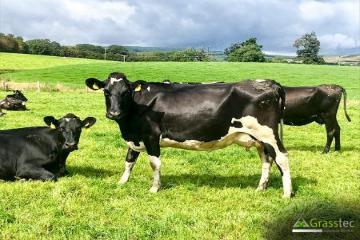cow: (93, 61, 290, 186), (13, 113, 93, 181), (289, 80, 355, 153)
